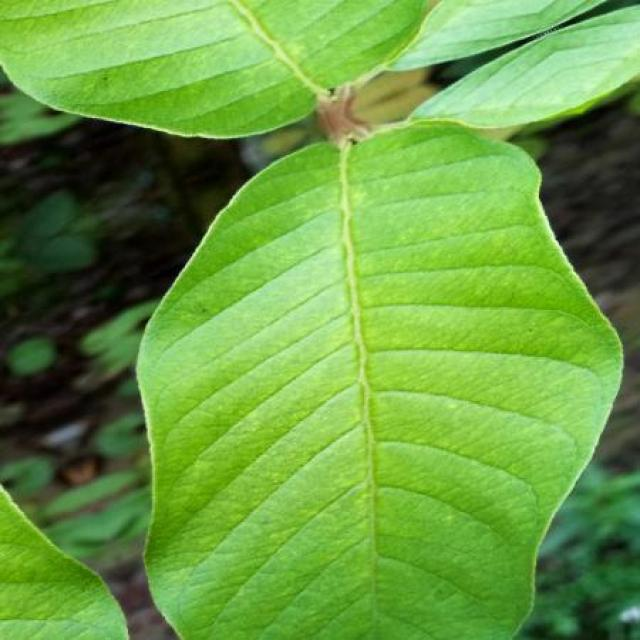Disease Free: (1, 492, 126, 639)
